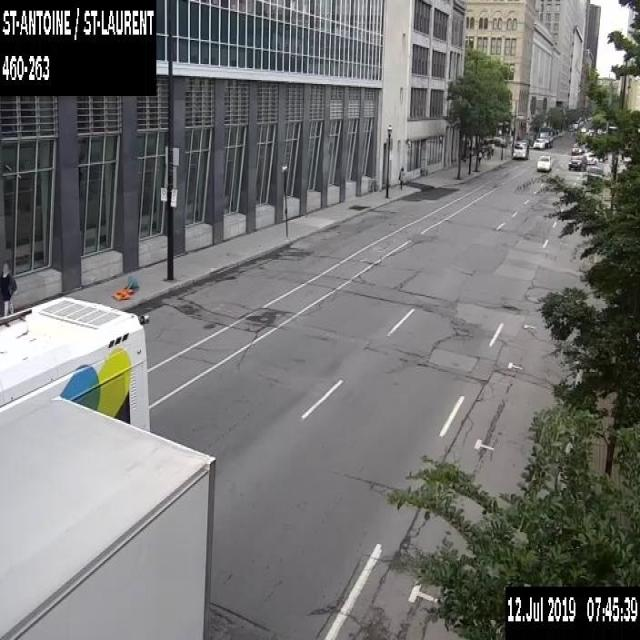bus: (0, 295, 149, 434)
construction: (112, 274, 138, 299)
pedestrian: (0, 259, 18, 317), (398, 165, 404, 190), (477, 149, 482, 165), (490, 140, 494, 156)
vehicle: (0, 393, 217, 638), (512, 138, 528, 158), (568, 154, 586, 170), (536, 154, 551, 171), (538, 130, 552, 147), (583, 151, 597, 163), (532, 137, 544, 148), (571, 142, 582, 153)
